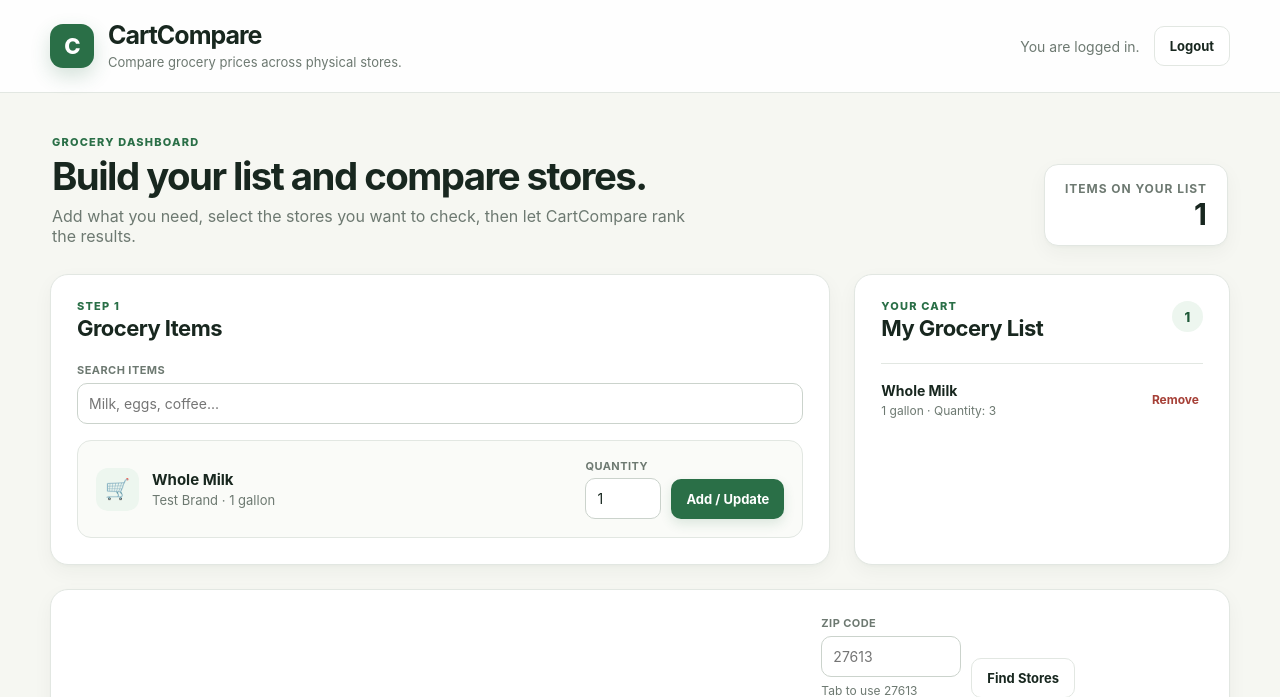
App grocery list › removes an item and refreshes the grocery list
What coordinates should you click on to do the following:
click the button "Remove"
I would click on:
 (1175, 399)
Its box is x1=1148 y1=388 x2=1203 y2=410.
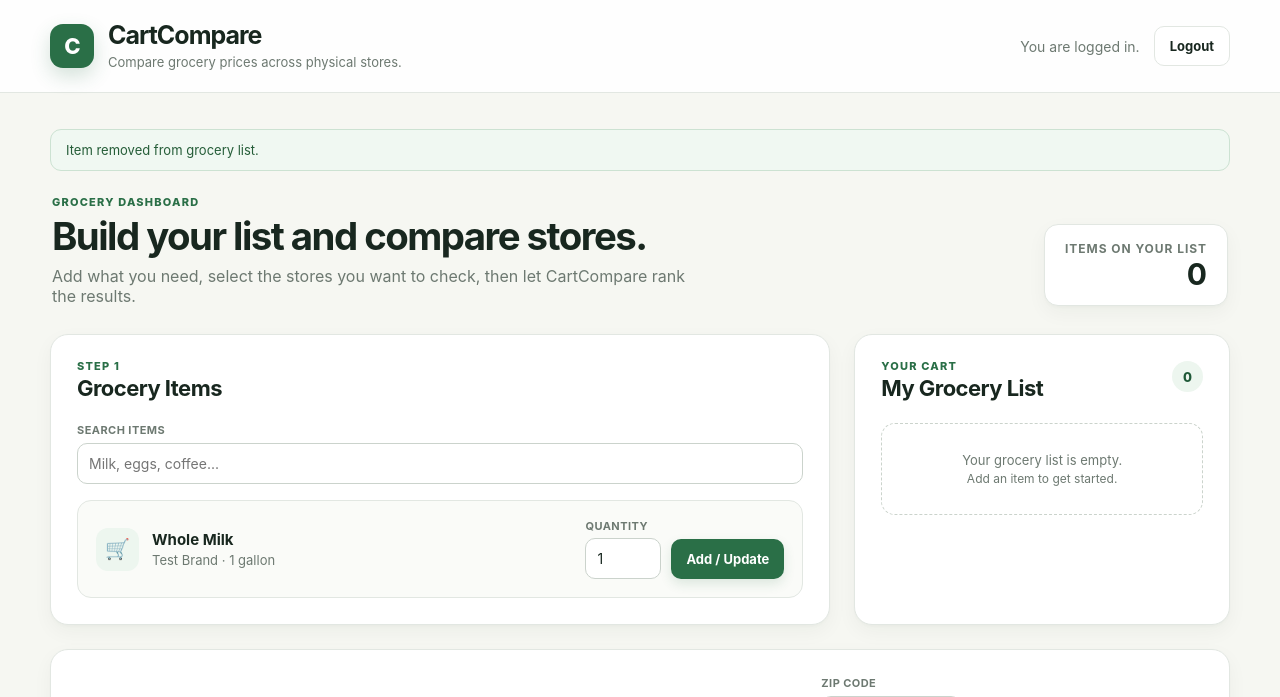
Now the text "Item removed from grocery list." is shown, box x1=50 y1=129 x2=1230 y2=171
Now the text "Your grocery list is empty." is shown, box x1=962 y1=452 x2=1122 y2=468
